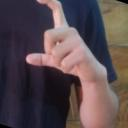hand: (26, 0, 108, 82)
